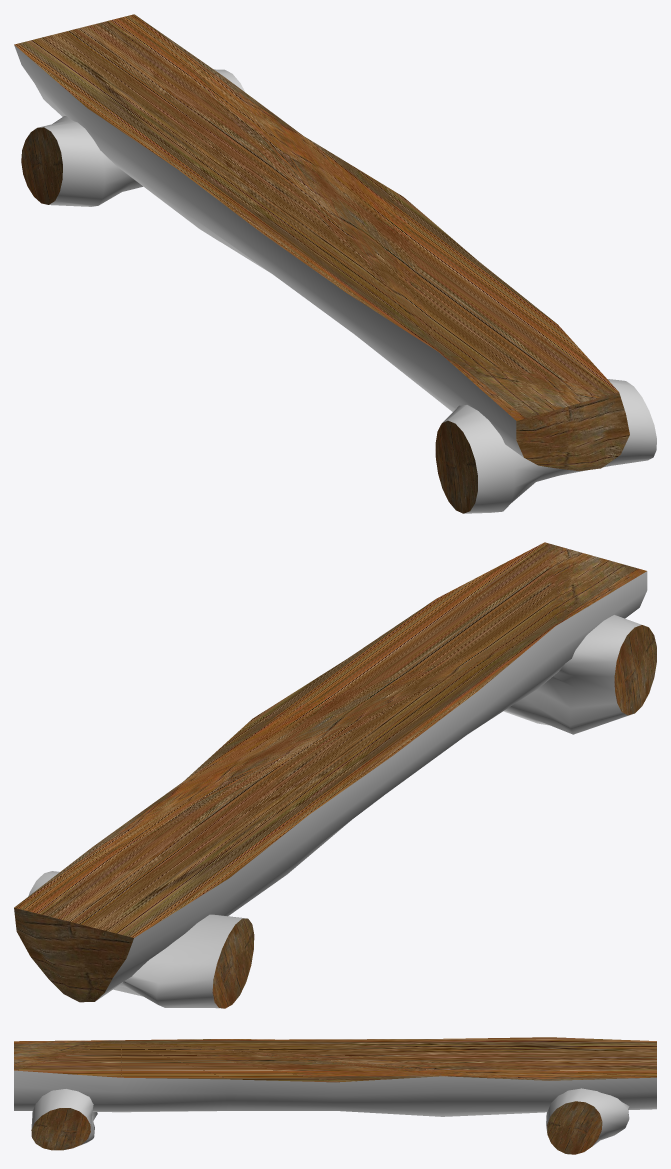
Rendered from Banc.FBX.
The picture shows the model from 3 angles, top to bottom: view 1: azimuth 30°, elevation 25°; view 2: azimuth 150°, elevation 25°; view 3: azimuth 270°, elevation 25°; orthographic projection. The views are drawn at different scales.
Visible parts, largest first — view 1: Banc; view 2: Banc; view 3: Banc.
Boxes of the visible parts, x1=… form: Banc: x1=14, y1=14, x2=656, y2=513; Banc: x1=14, y1=542, x2=656, y2=1008; Banc: x1=14, y1=1037, x2=656, y2=1154.
Bounding box in the file's own units: 24.18 × 15.98 × 112.
